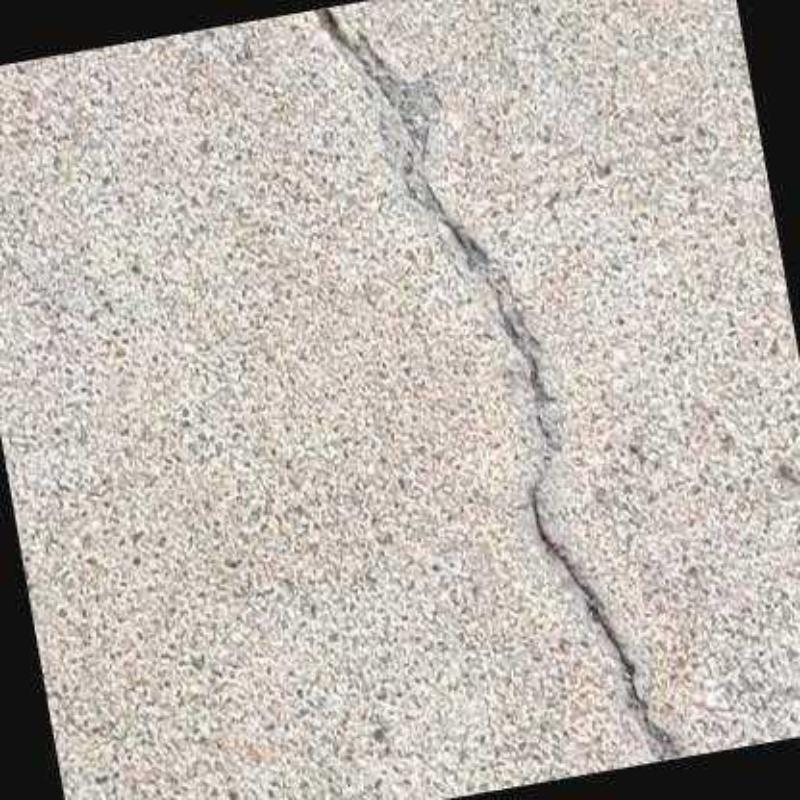pothole: (295, 6, 679, 759)
